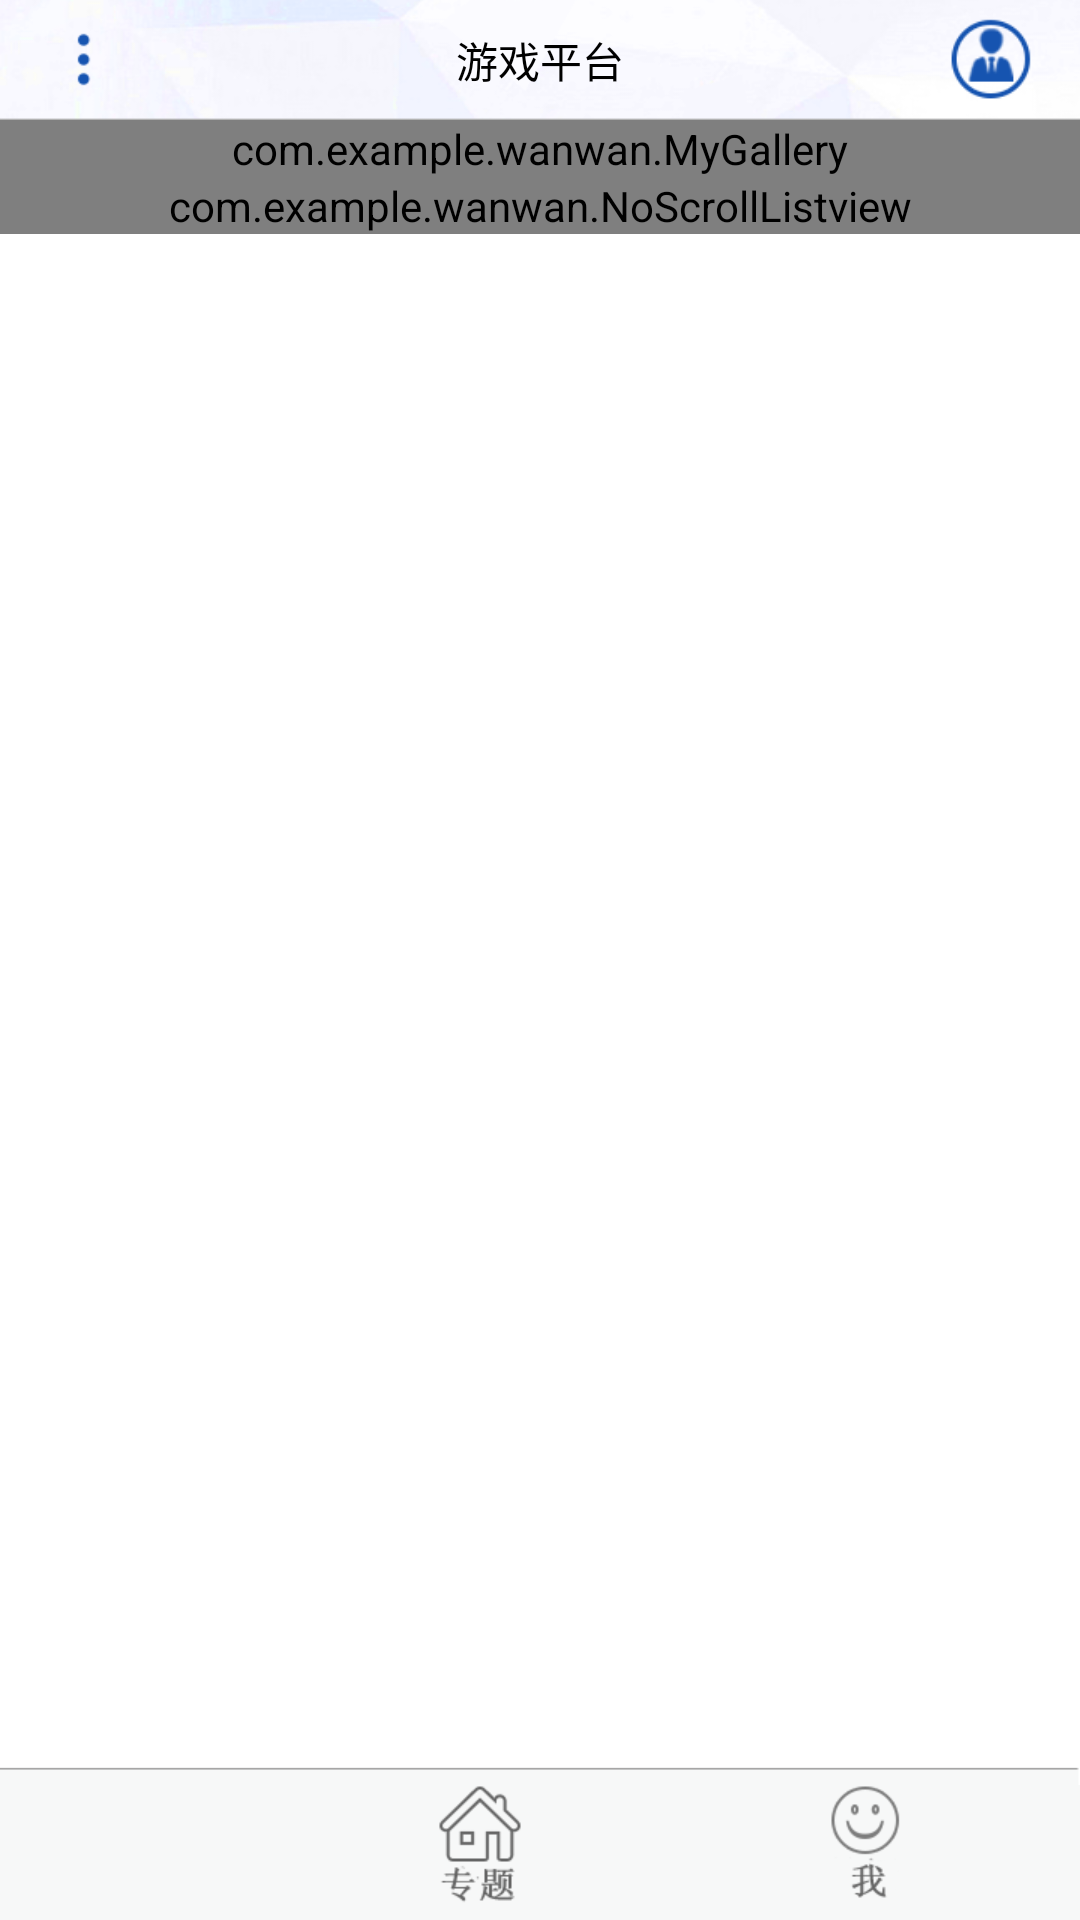

Named icons in this screenshot (1080w x 1920h) and their centers, (x=x, y=y):
menu: (x=83, y=59)
